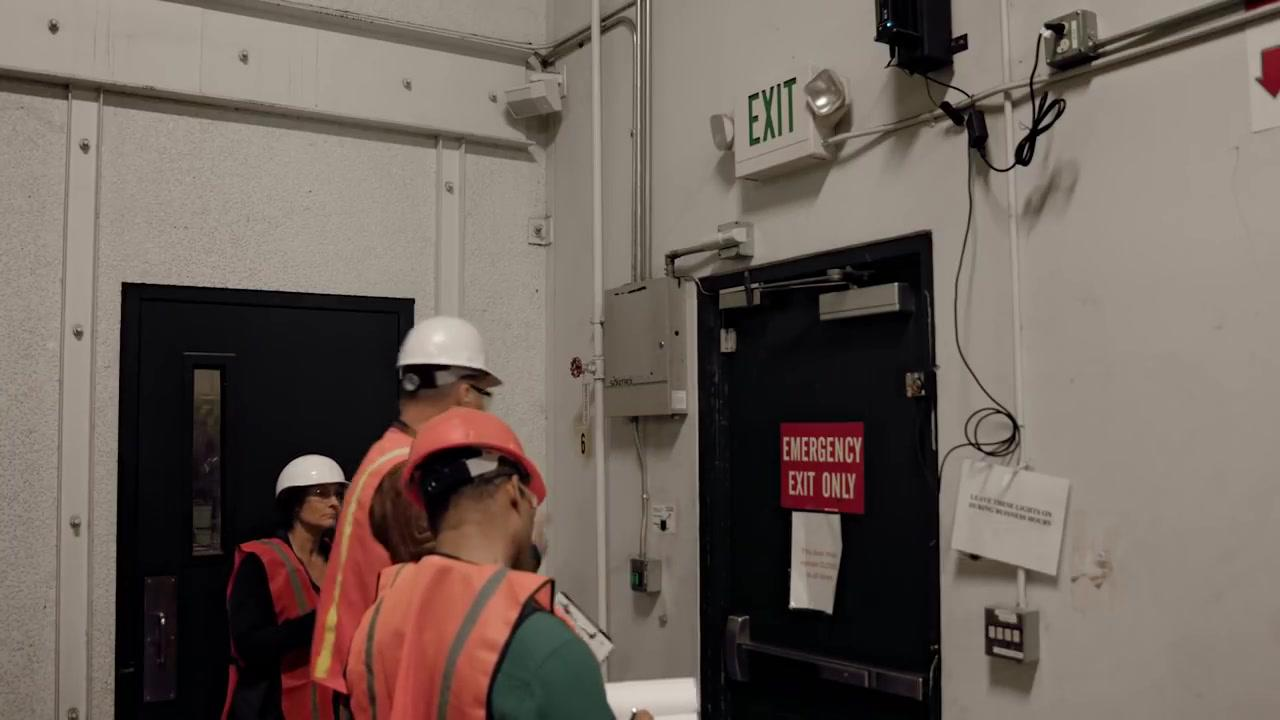Hi-Vis Jacket: (364, 560, 557, 720), (226, 540, 341, 720), (329, 429, 405, 681)
